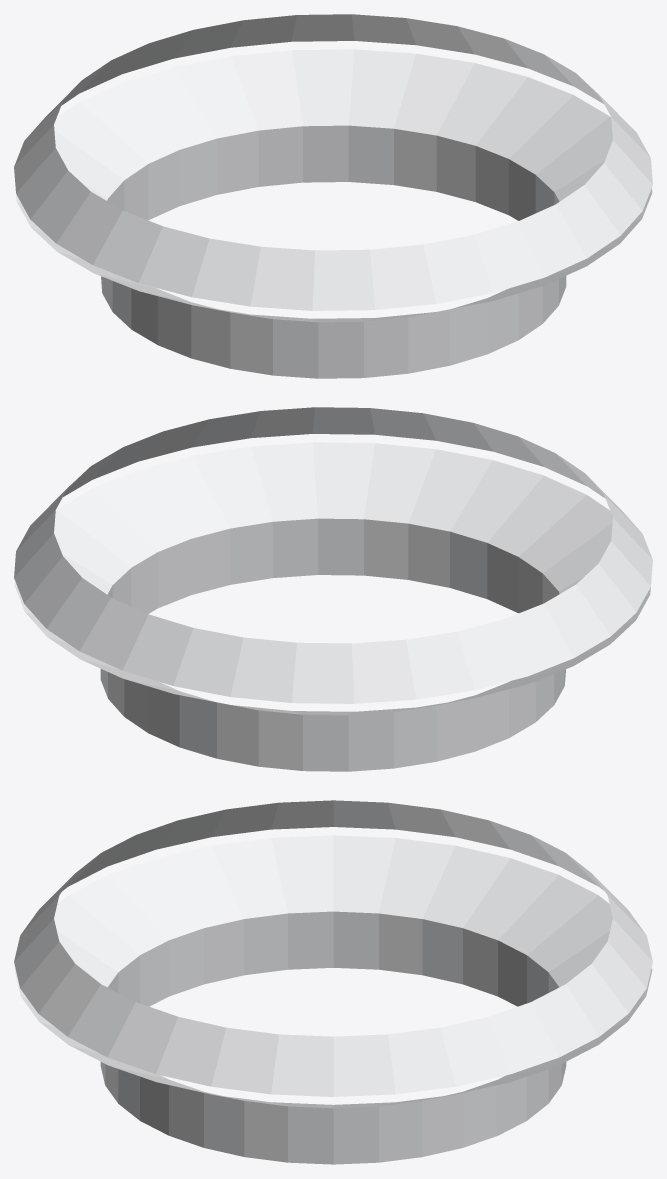
The model's file is bumper.obj.
3 renders of one model, top to bottom at view 1: azimuth 30°, elevation 25°; view 2: azimuth 150°, elevation 25°; view 3: azimuth 270°, elevation 25°, orthographic.
Visible parts, largest first — view 1: Circle.003_Circle.001; view 2: Circle.003_Circle.001; view 3: Circle.003_Circle.001.
Boxes of the visible parts, box(x1,y1,x2,y2) form: Circle.003_Circle.001: box(14, 14, 652, 378); Circle.003_Circle.001: box(14, 407, 652, 771); Circle.003_Circle.001: box(14, 800, 652, 1164).
Bounding box in the file's own units: 1.41 × 0.3587 × 1.41.
1 material, 1 textured.
